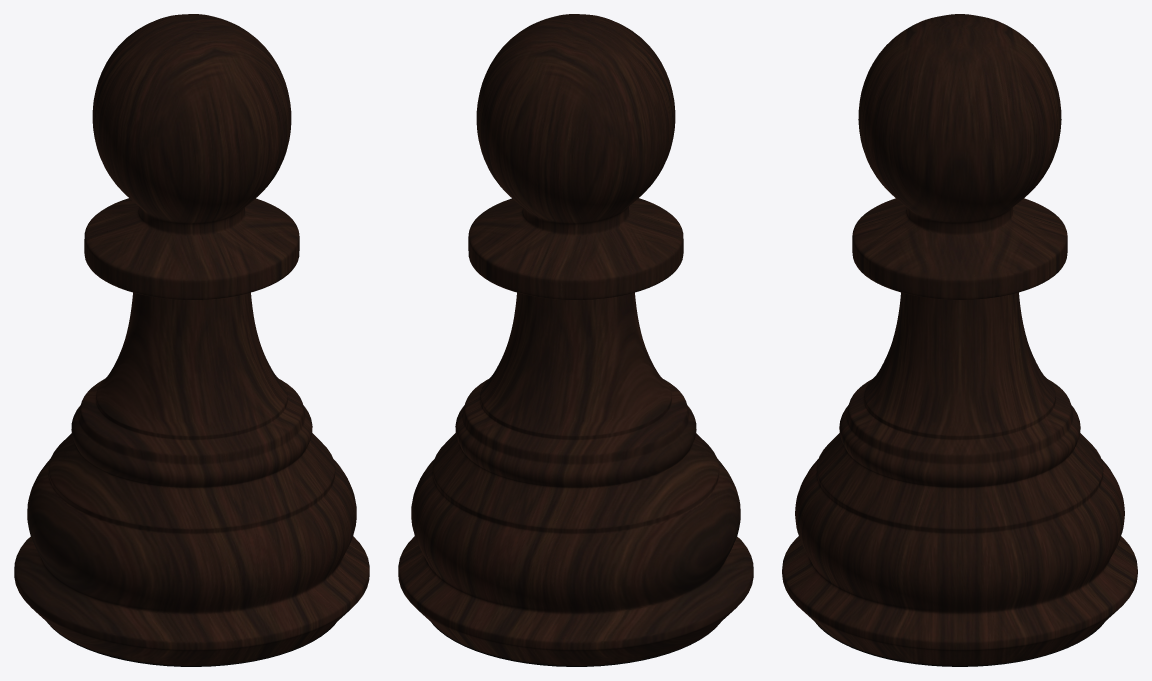
The model's file is pawn.obj.
3 views of the same model, side by side, from view 1: azimuth 30°, elevation 25°; view 2: azimuth 150°, elevation 25°; view 3: azimuth 270°, elevation 25° (orthographic).
Visible parts, largest first — view 1: pawn; view 2: pawn; view 3: pawn.
Part boxes in pixels (bbox=[...]): pawn: bbox=[14, 14, 369, 666]; pawn: bbox=[398, 14, 753, 666]; pawn: bbox=[782, 14, 1137, 666].
Bounding box in the file's own units: 4.56 × 8.17 × 4.56.
Materials: 1 (1 with a texture image).
